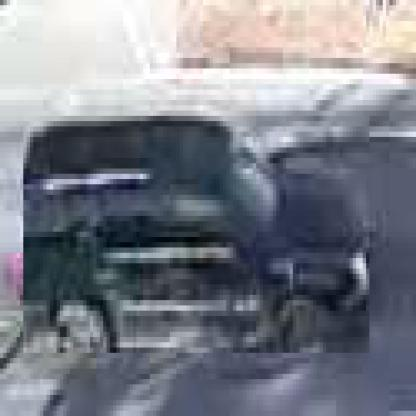car: (21, 117, 370, 359)
